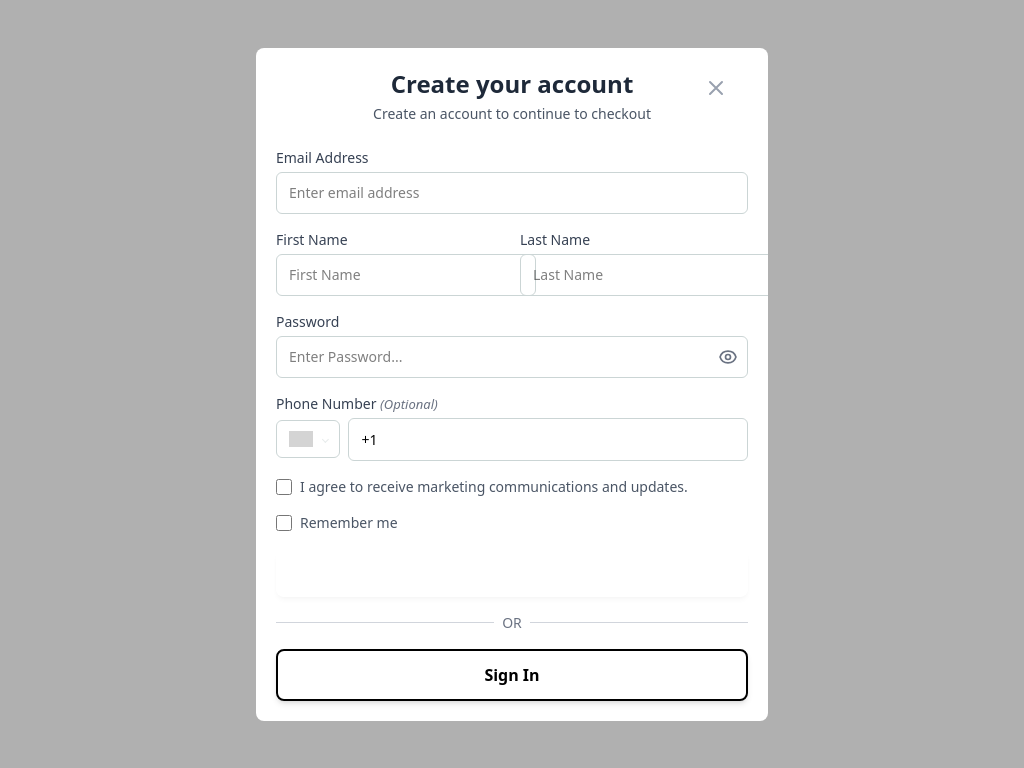
Test: CreateAccountForm Component › should show email-check API error banner
In the field with placeholder "Enter email address": (512, 192) left=276, top=172, right=748, bottom=214, type "user@example.com"
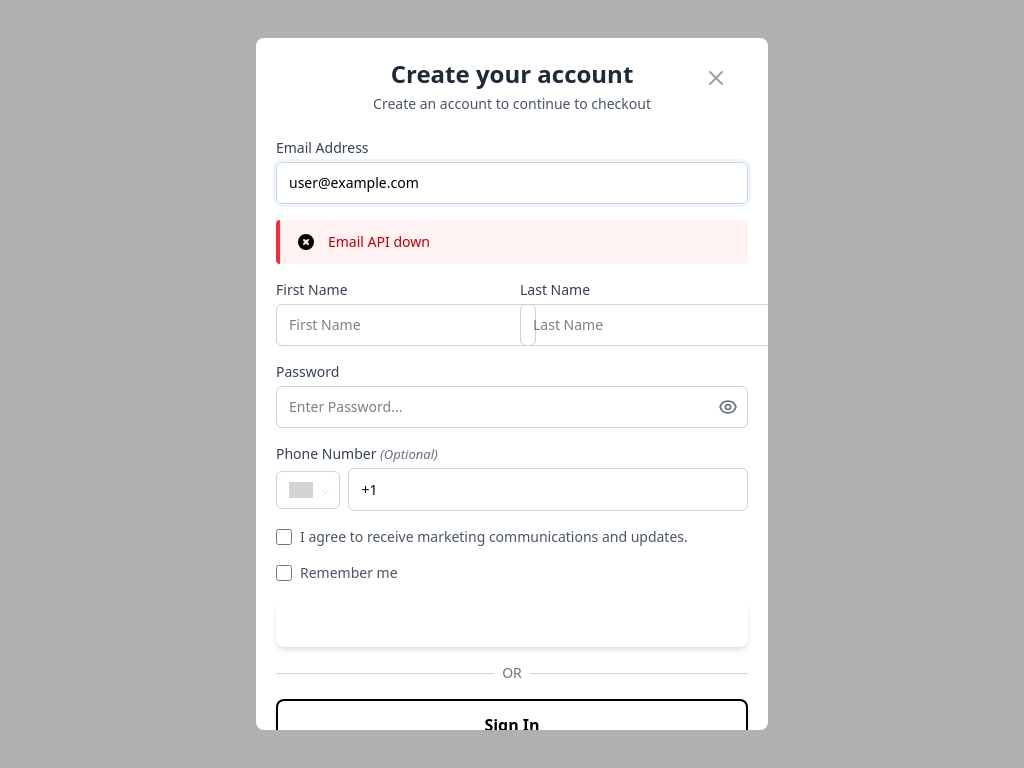
Expected: the text "Email API down" is shown, left=328, top=232, right=430, bottom=252
